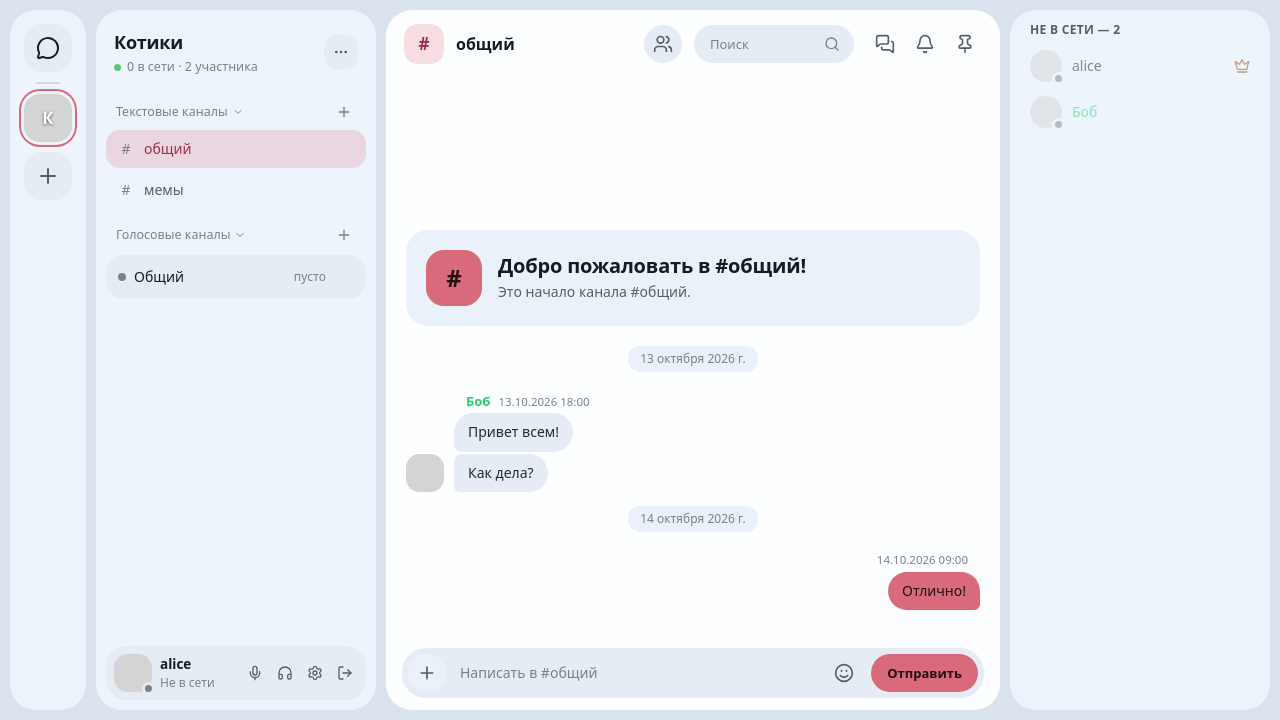
joining voice › explains why it could not connect
The image size is (1280, 720).
Click the button with aria-label "Голосовой канал Общий" at (210, 277), box [134,267,286,287]
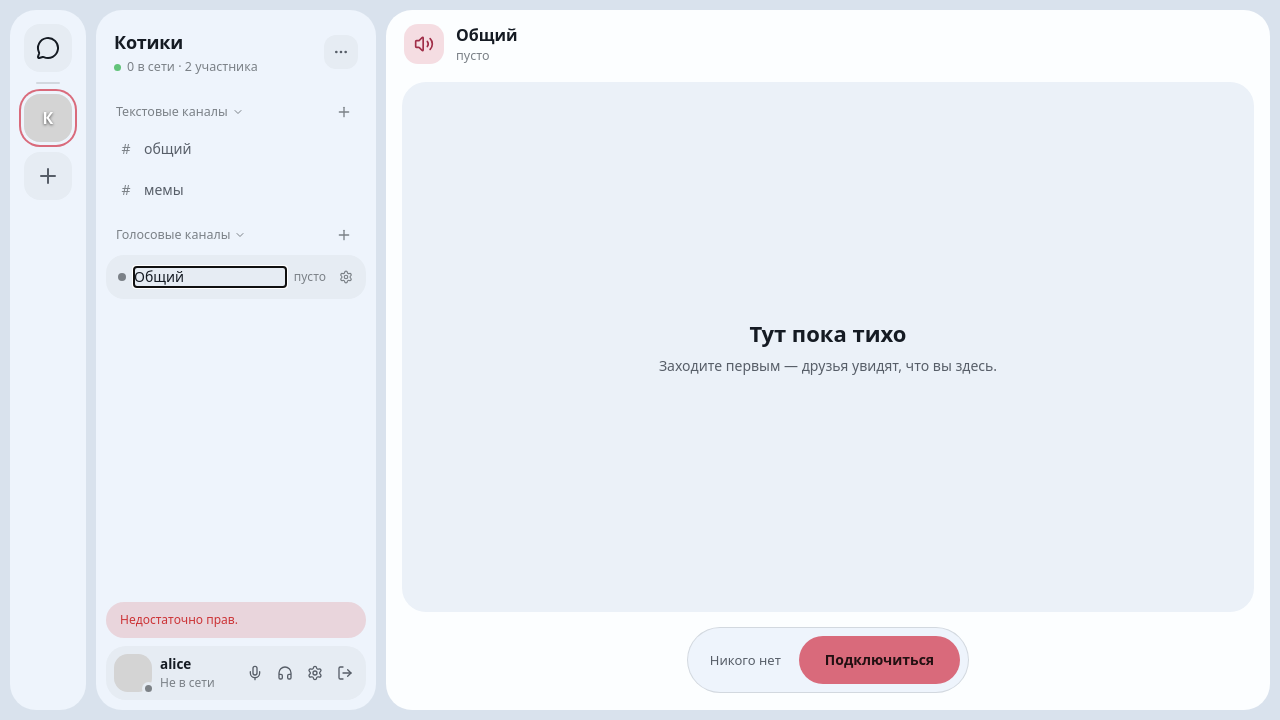
Check: the message shows "Недостаточно прав", box [120,611,238,628]
